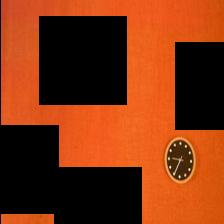orange: (0, 1, 224, 224)
